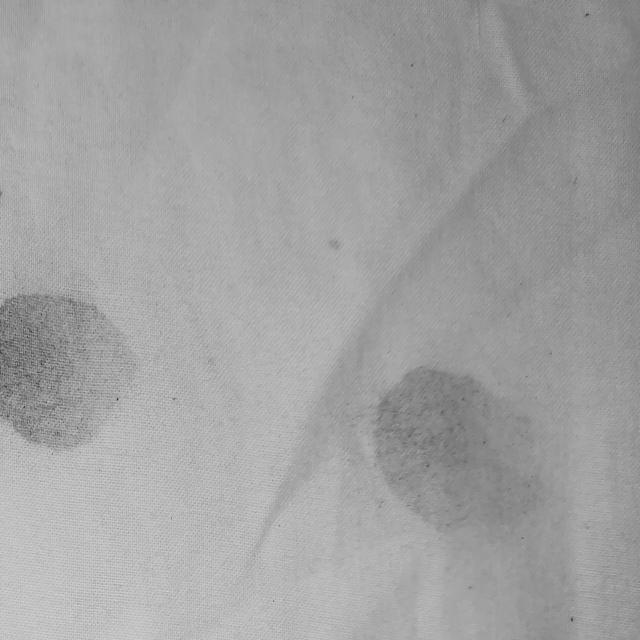Stain: (374, 367, 545, 537), (0, 295, 135, 449), (327, 236, 344, 251)
